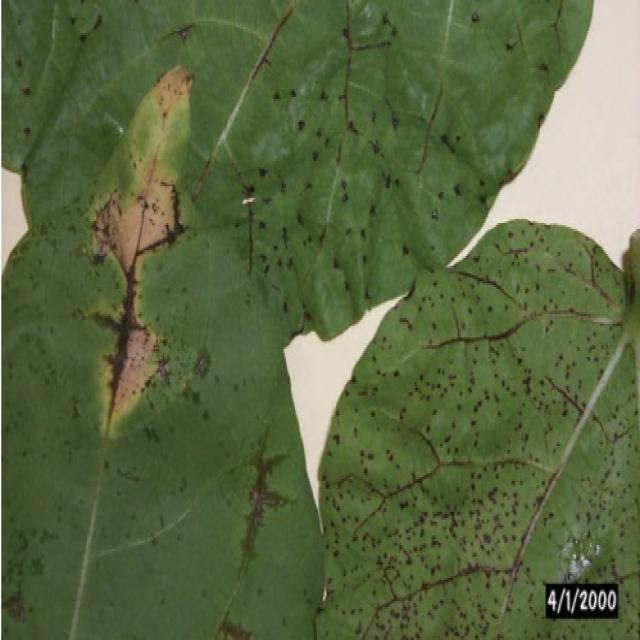Bacterial Blight: (387, 315, 536, 640), (90, 49, 214, 438)
